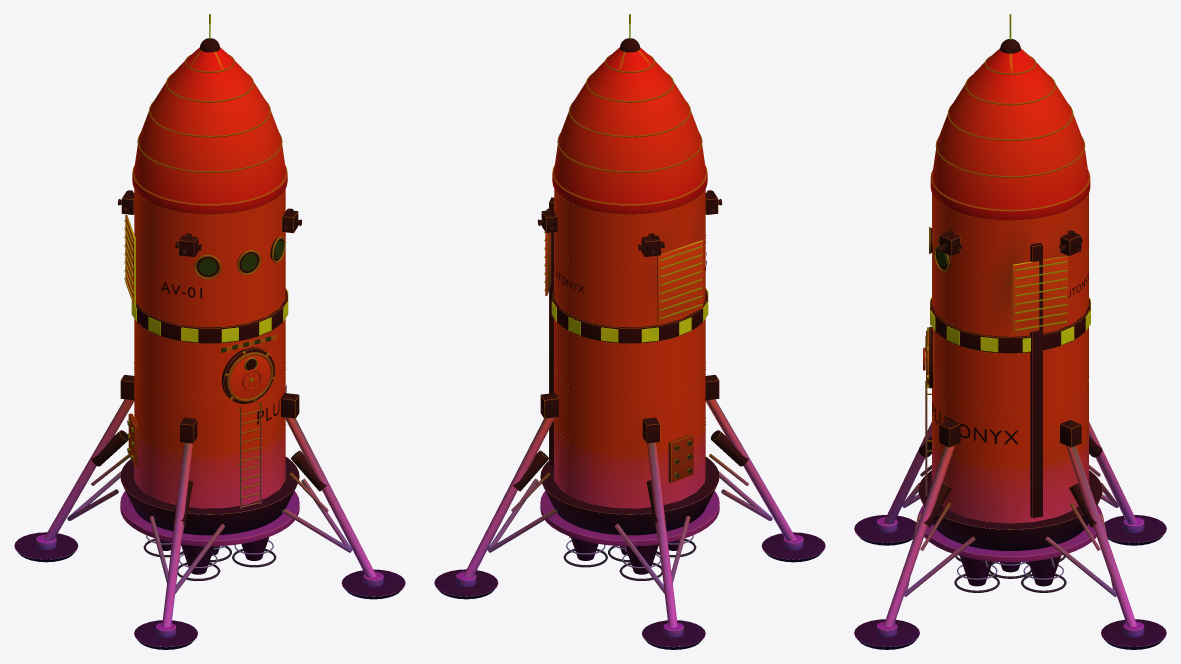
The model's file is ascent.glb.
The picture shows the model from 3 angles, left to right: view 1: azimuth 30°, elevation 25°; view 2: azimuth 150°, elevation 25°; view 3: azimuth 270°, elevation 25°; orthographic projection. The views are drawn at different scales.
Visible parts, largest first — view 1: ascent; view 2: ascent; view 3: ascent.
Part boxes in pixels (x1,y1,x2,y2): ascent: (14, 14, 405, 649); ascent: (434, 14, 825, 649); ascent: (854, 14, 1166, 649).
Size of the model in its own units: 8.97 by 18.05 by 8.97.
